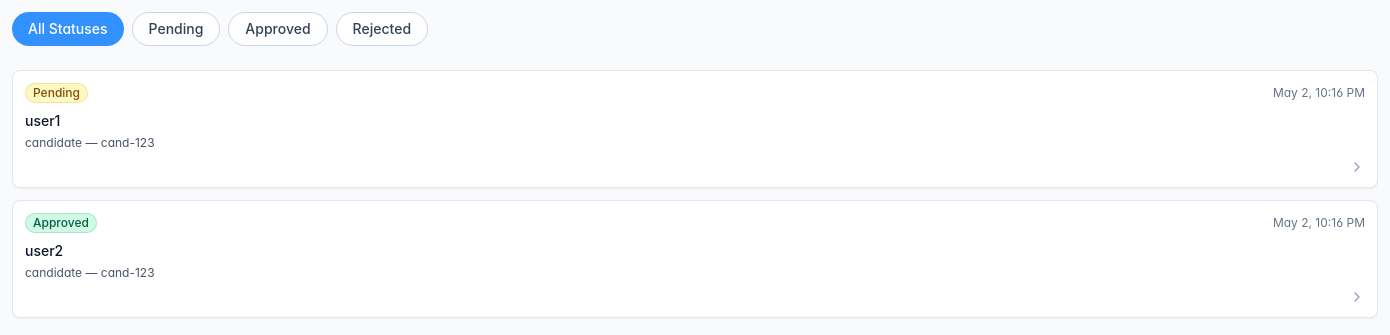
ApprovalCardList › filters to pending approvals when pending chip is clicked
The width and height of the screenshot is (1390, 335).
Click the button "Pending" at (176, 29), box top-left (132, 12), bottom-right (220, 46)
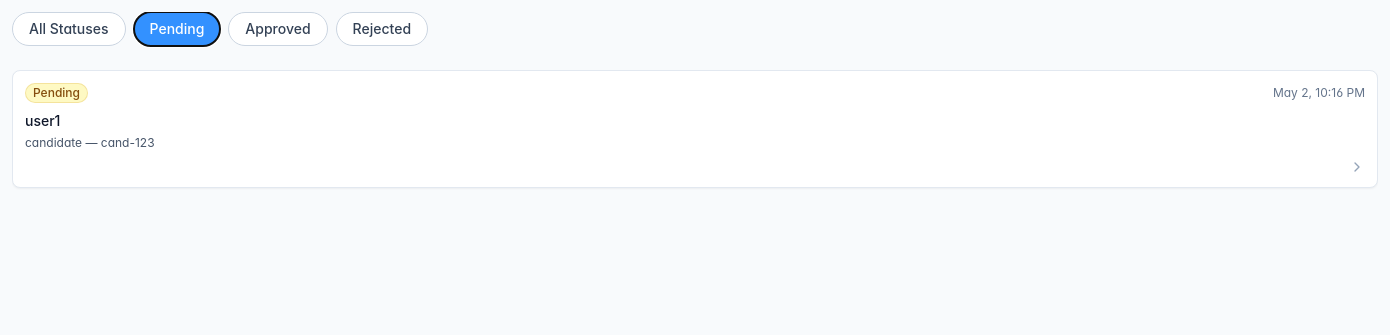
Expected: the text with test id "approval-card-submitter" reads "user1", top-left (25, 112), bottom-right (60, 129)
Expected: the number of buttons with test id "approval-card" is 1, top-left (12, 70), bottom-right (1378, 188)
